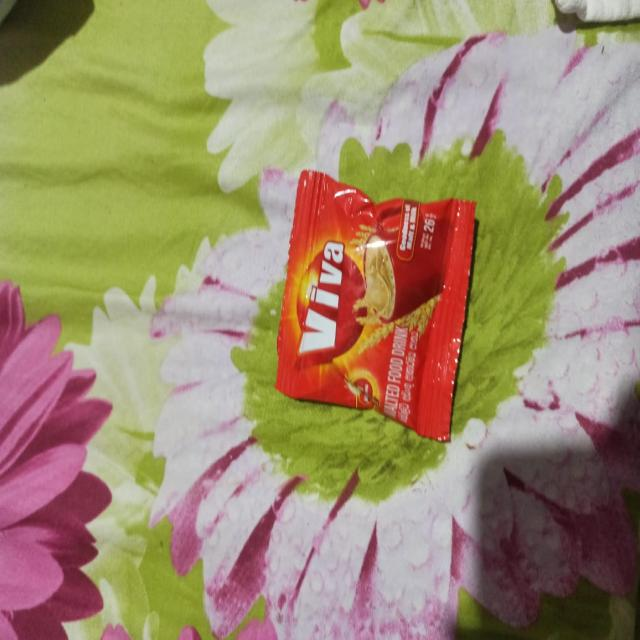Viva Malt: (268, 129, 484, 459)
